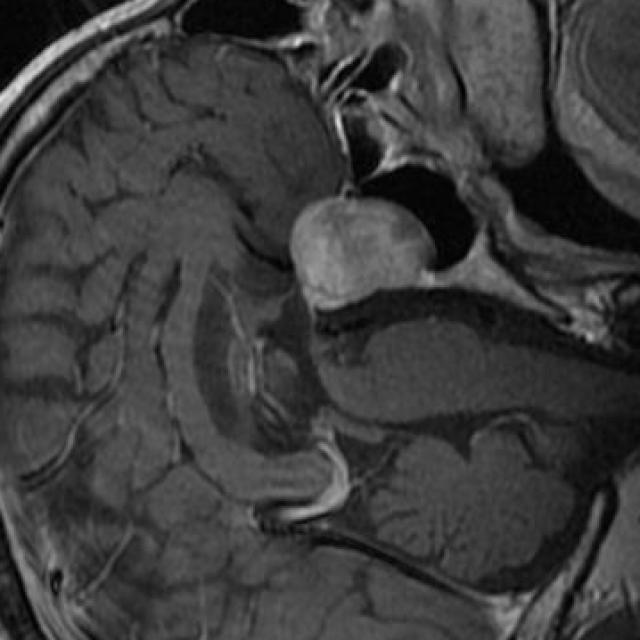pituitary: (289, 198, 433, 312)
